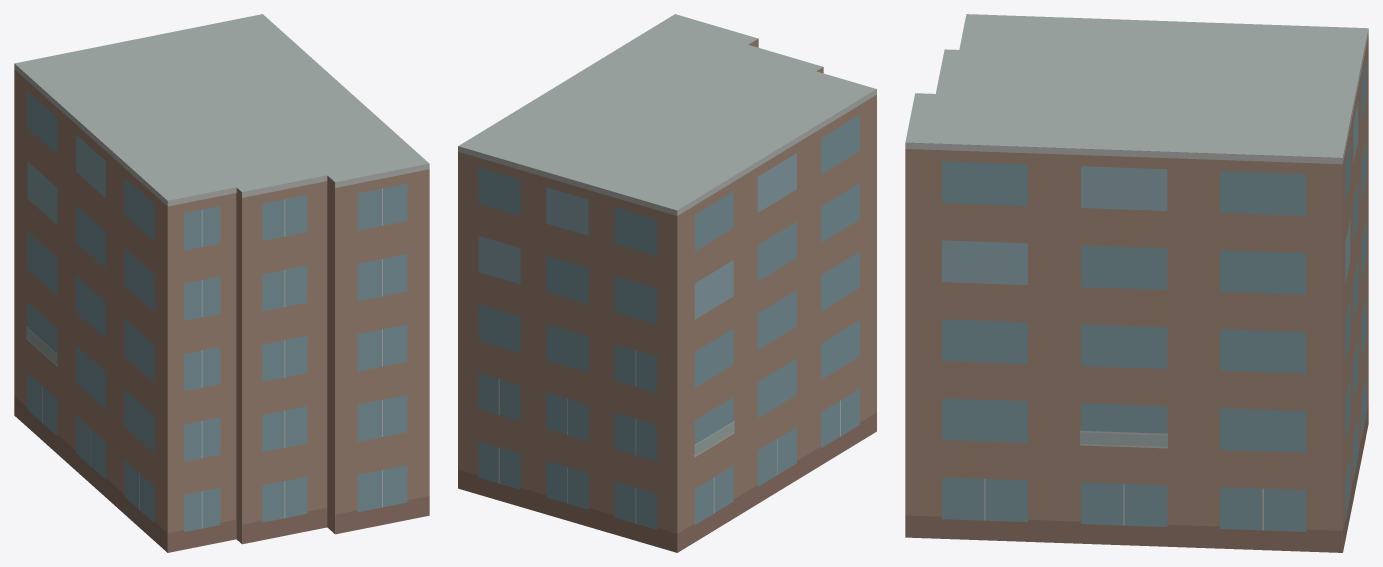
The model's file is survey-upis-32956292.glb.
3 views of the same model, side by side, from view 1: azimuth 30°, elevation 25°; view 2: azimuth 150°, elevation 25°; view 3: azimuth 270°, elevation 25° (orthographic). The views are drawn at different scales.
Visible parts, largest first — view 1: survey-upis-32956292.tmp; view 2: survey-upis-32956292.tmp; view 3: survey-upis-32956292.tmp.
Boxes of the visible parts, x1,y1,x2,y2 form: survey-upis-32956292.tmp: (14,14,429,552); survey-upis-32956292.tmp: (458,14,876,552); survey-upis-32956292.tmp: (905,14,1368,552).
Bounding box in the file's own units: 11.81 × 15.1 × 16.06.
